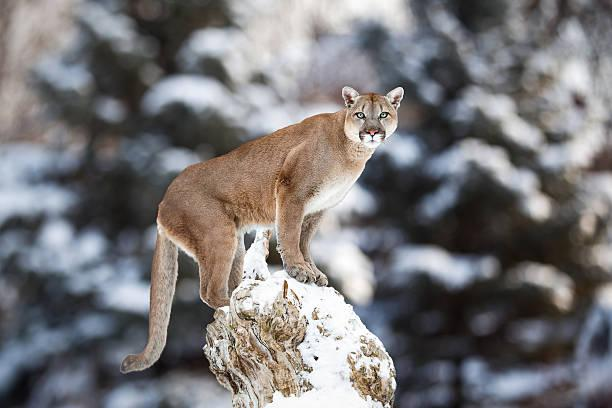OncaParda: (118, 83, 411, 374)
